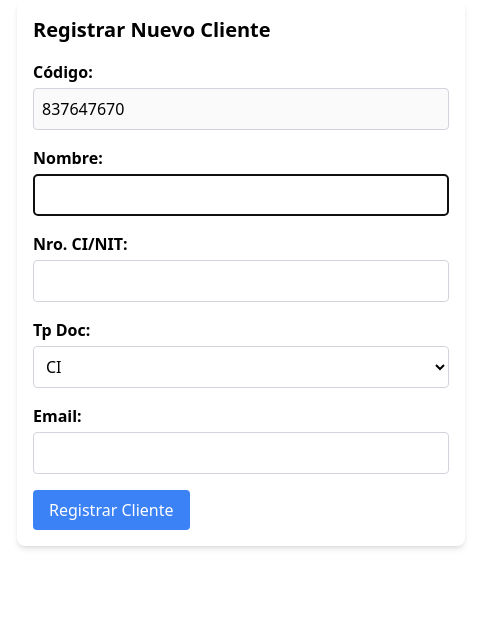
App tests › shows an error if CI/NIT is not numeric
Type "non-numeric" into the field labelled "Nro. CI/NIT:" at coordinates (241, 281), box left=33, top=260, right=449, bottom=302
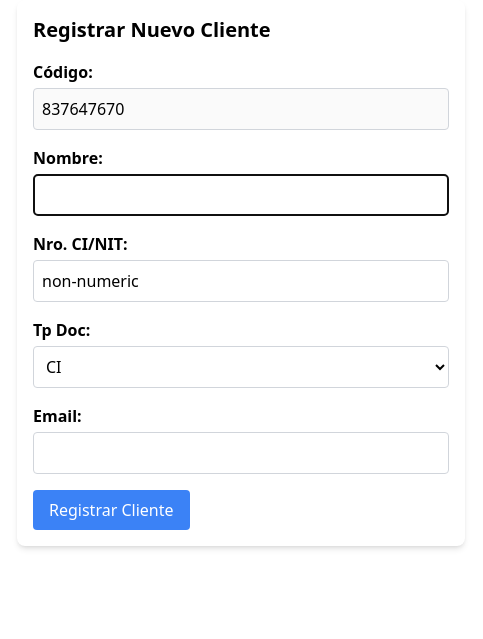
Click the button "Registrar Cliente" at coordinates (111, 510), box left=33, top=490, right=190, bottom=530
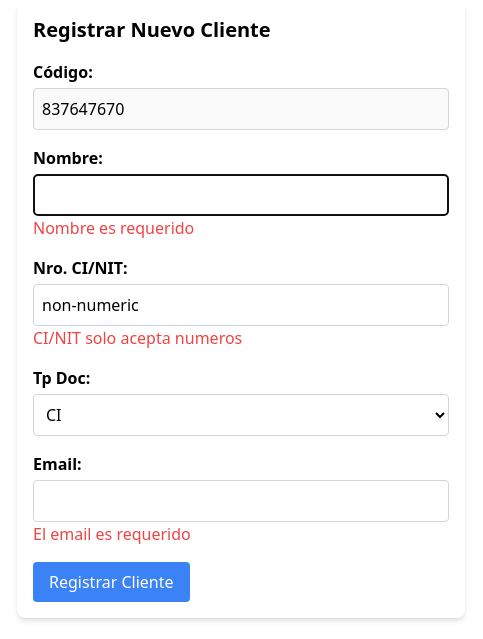
Result: the text "CI/NIT solo acepta numeros" is shown at left=33, top=327, right=242, bottom=349
